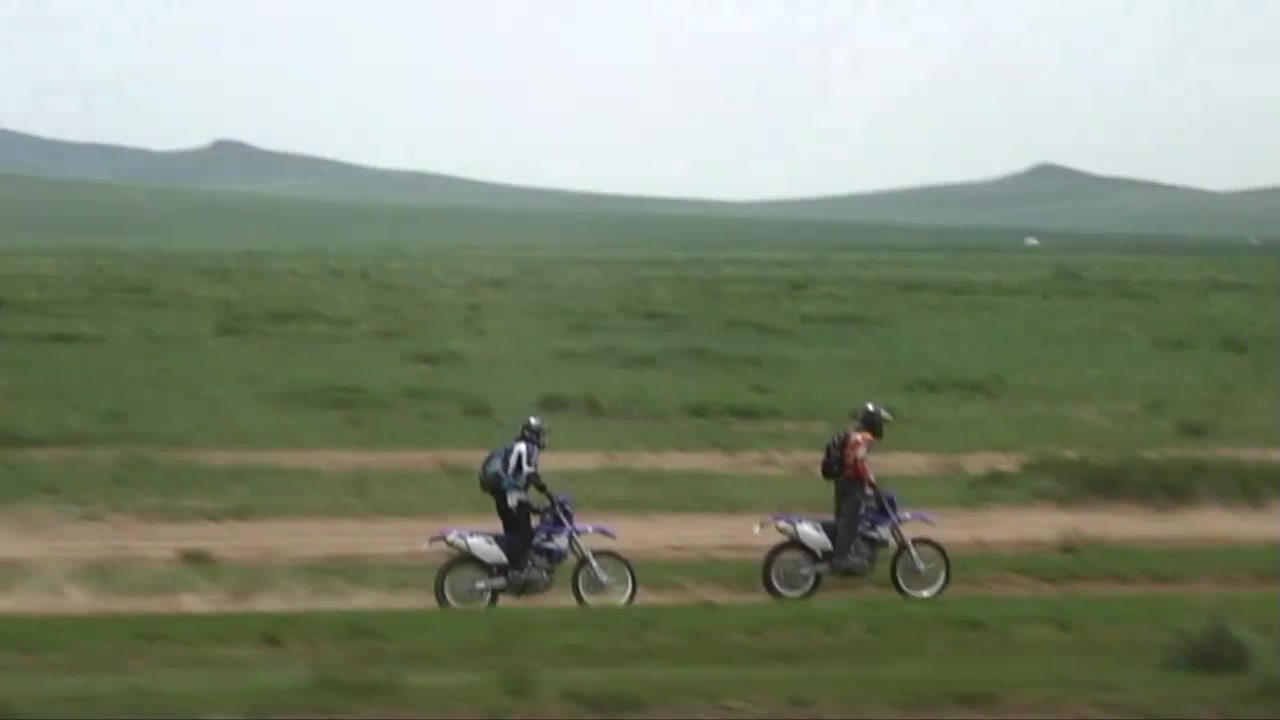motorbike: (423, 489, 640, 615), (760, 470, 956, 606)
